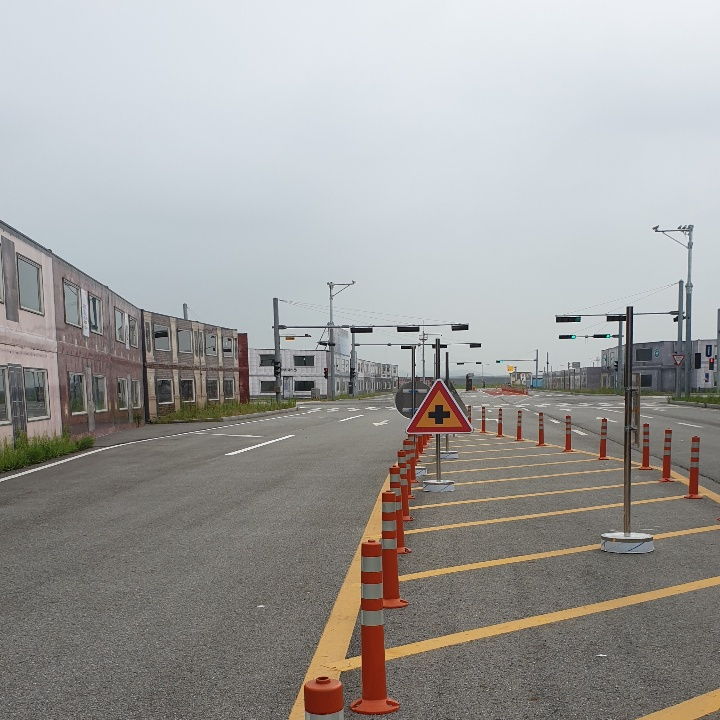inter: (421, 401, 456, 428)
